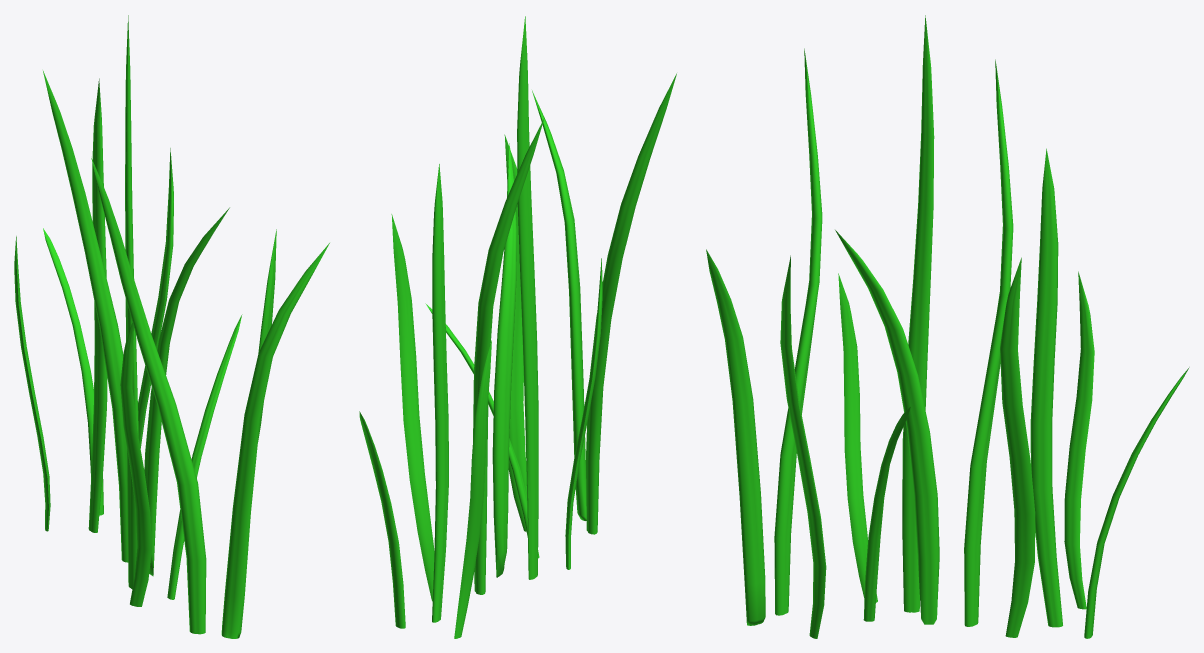
Rendered from Grass.fbx.
3 views of the same model, side by side, from view 1: azimuth 30°, elevation 25°; view 2: azimuth 150°, elevation 25°; view 3: azimuth 270°, elevation 25° (orthographic). The views are drawn at different scales.
Parts seen in each view (by area): view 1: Grass; view 2: Grass; view 3: Grass.
Boxes of the visible parts, bbox=[...] form: Grass: bbox=[14, 15, 329, 638]; Grass: bbox=[359, 16, 676, 638]; Grass: bbox=[706, 15, 1189, 638].
Bounding box in the file's own units: 43.52 × 117 × 85.82.
